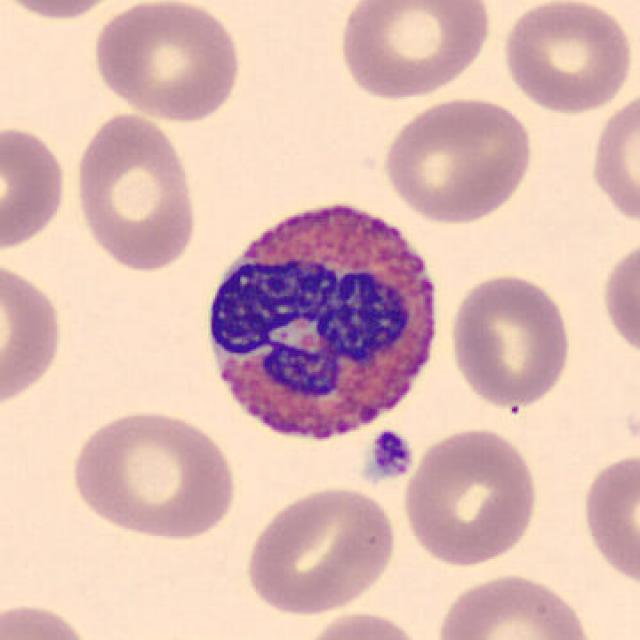Eosinophil: (194, 182, 452, 462)
Platelets: (363, 429, 416, 483)
RBC: (64, 406, 240, 543), (69, 108, 203, 275), (240, 481, 400, 617), (379, 91, 537, 226), (400, 423, 542, 570), (89, 0, 247, 123), (446, 270, 576, 411), (334, 0, 496, 102), (497, 0, 636, 116), (432, 569, 597, 640), (0, 254, 66, 416), (0, 120, 71, 254), (578, 448, 638, 592), (587, 83, 638, 233), (599, 231, 638, 367), (295, 608, 430, 640), (0, 599, 98, 640), (0, 0, 132, 23)
